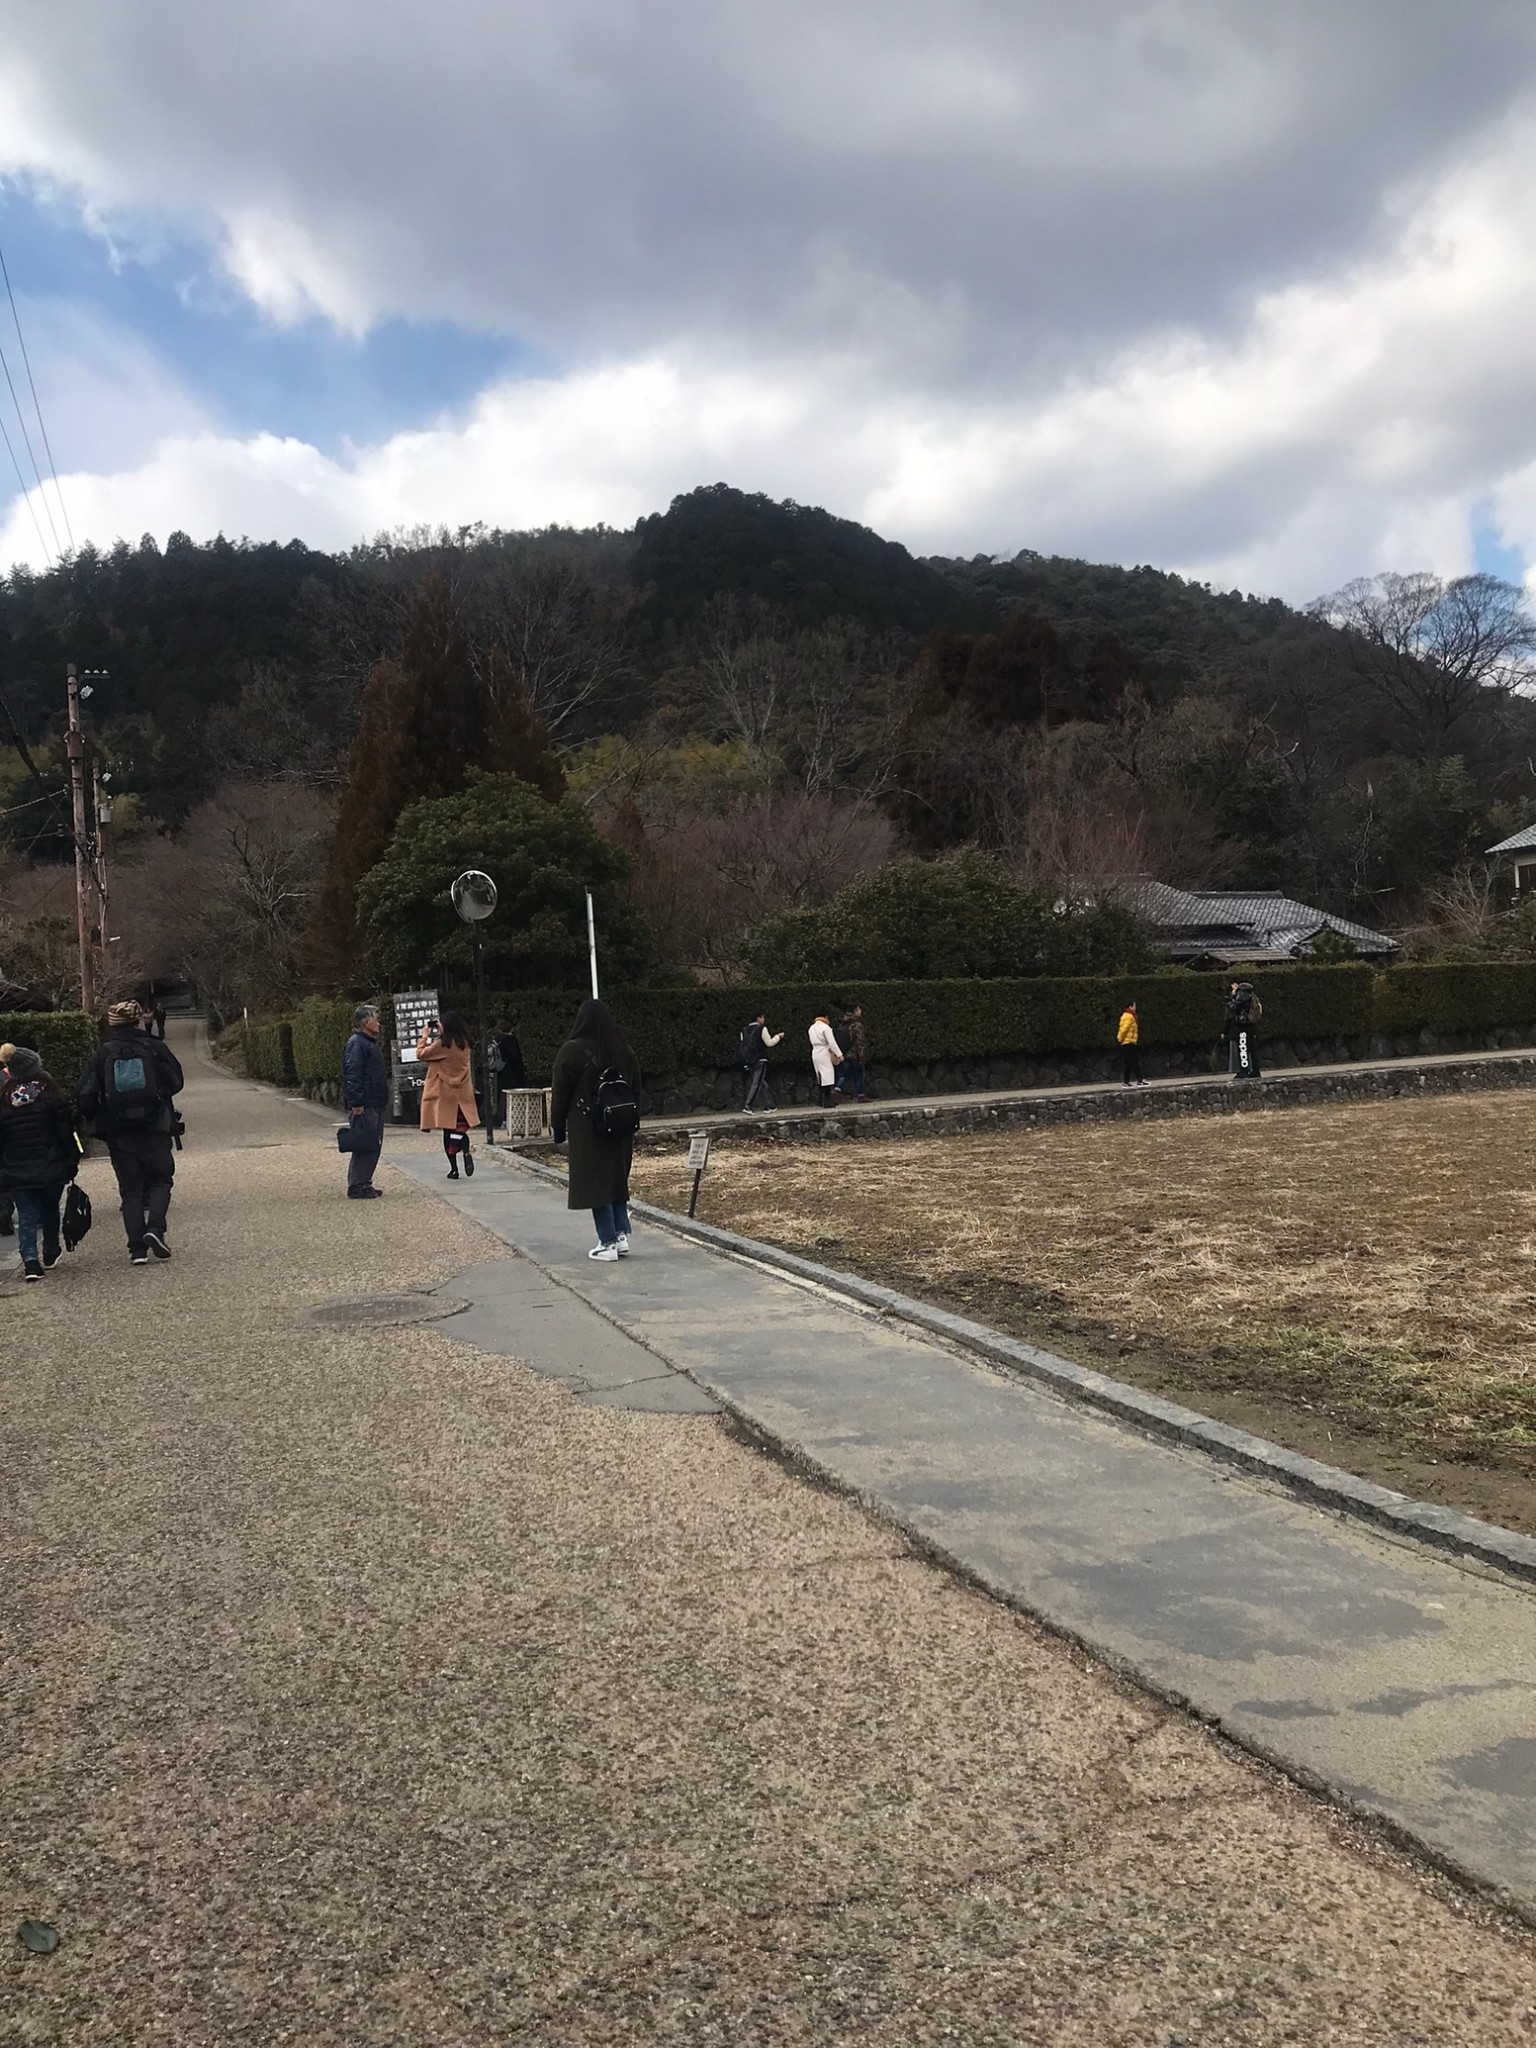people: (95, 993, 192, 1267), (2, 1044, 82, 1289), (573, 1051, 647, 1286), (408, 1015, 505, 1189), (334, 1012, 402, 1218), (834, 996, 889, 1122), (731, 1005, 782, 1112), (1218, 976, 1273, 1067), (798, 1025, 847, 1093), (1108, 996, 1147, 1067)
